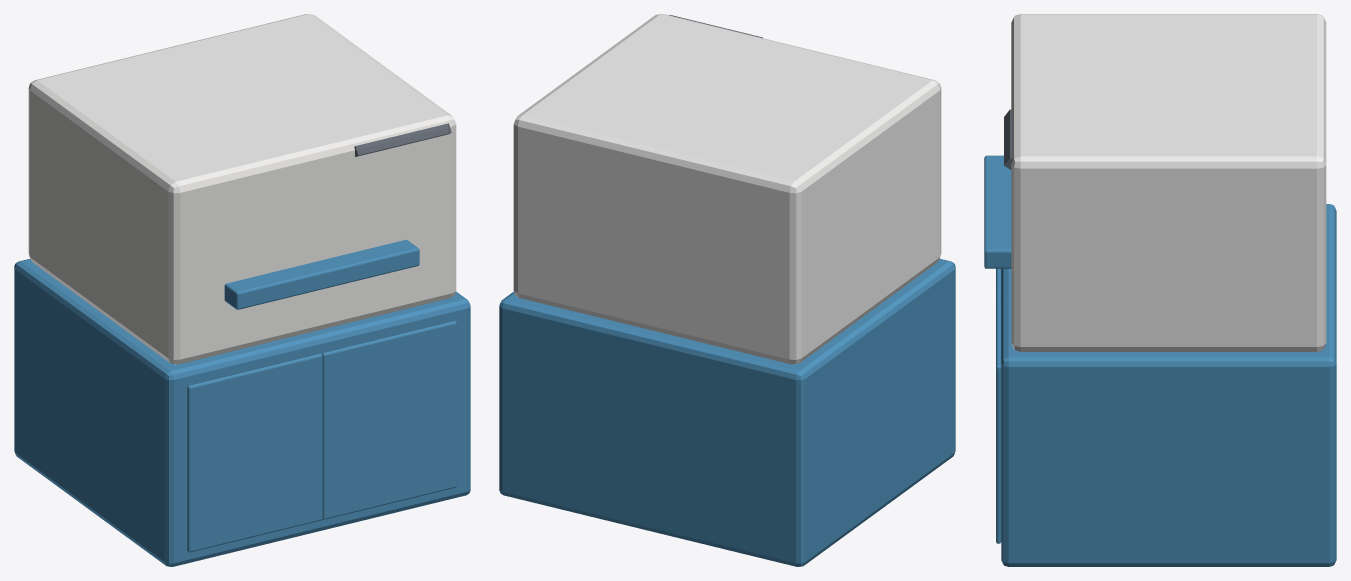
File: print___utility_office_asset_library_58.glb
3 views of the same model, side by side, from view 1: azimuth 30°, elevation 25°; view 2: azimuth 150°, elevation 25°; view 3: azimuth 270°, elevation 25° (orthographic). The views are drawn at different scales.
Visible parts, largest first — view 1: Cube; view 2: Cube; view 3: Cube.
Boxes of the visible parts, <box> form: Cube: <box>14,14,470,566</box>; Cube: <box>499,14,955,566</box>; Cube: <box>984,14,1336,566</box>.
Size of the model in its own units: 0.72 by 0.8526 by 0.672.
